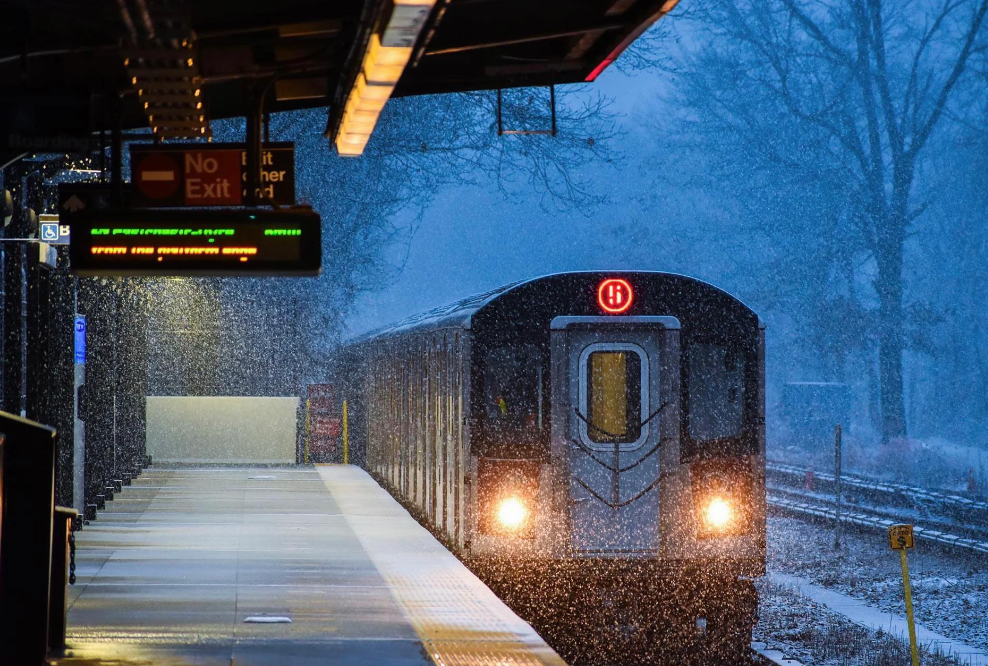train: (402, 270, 771, 566)
